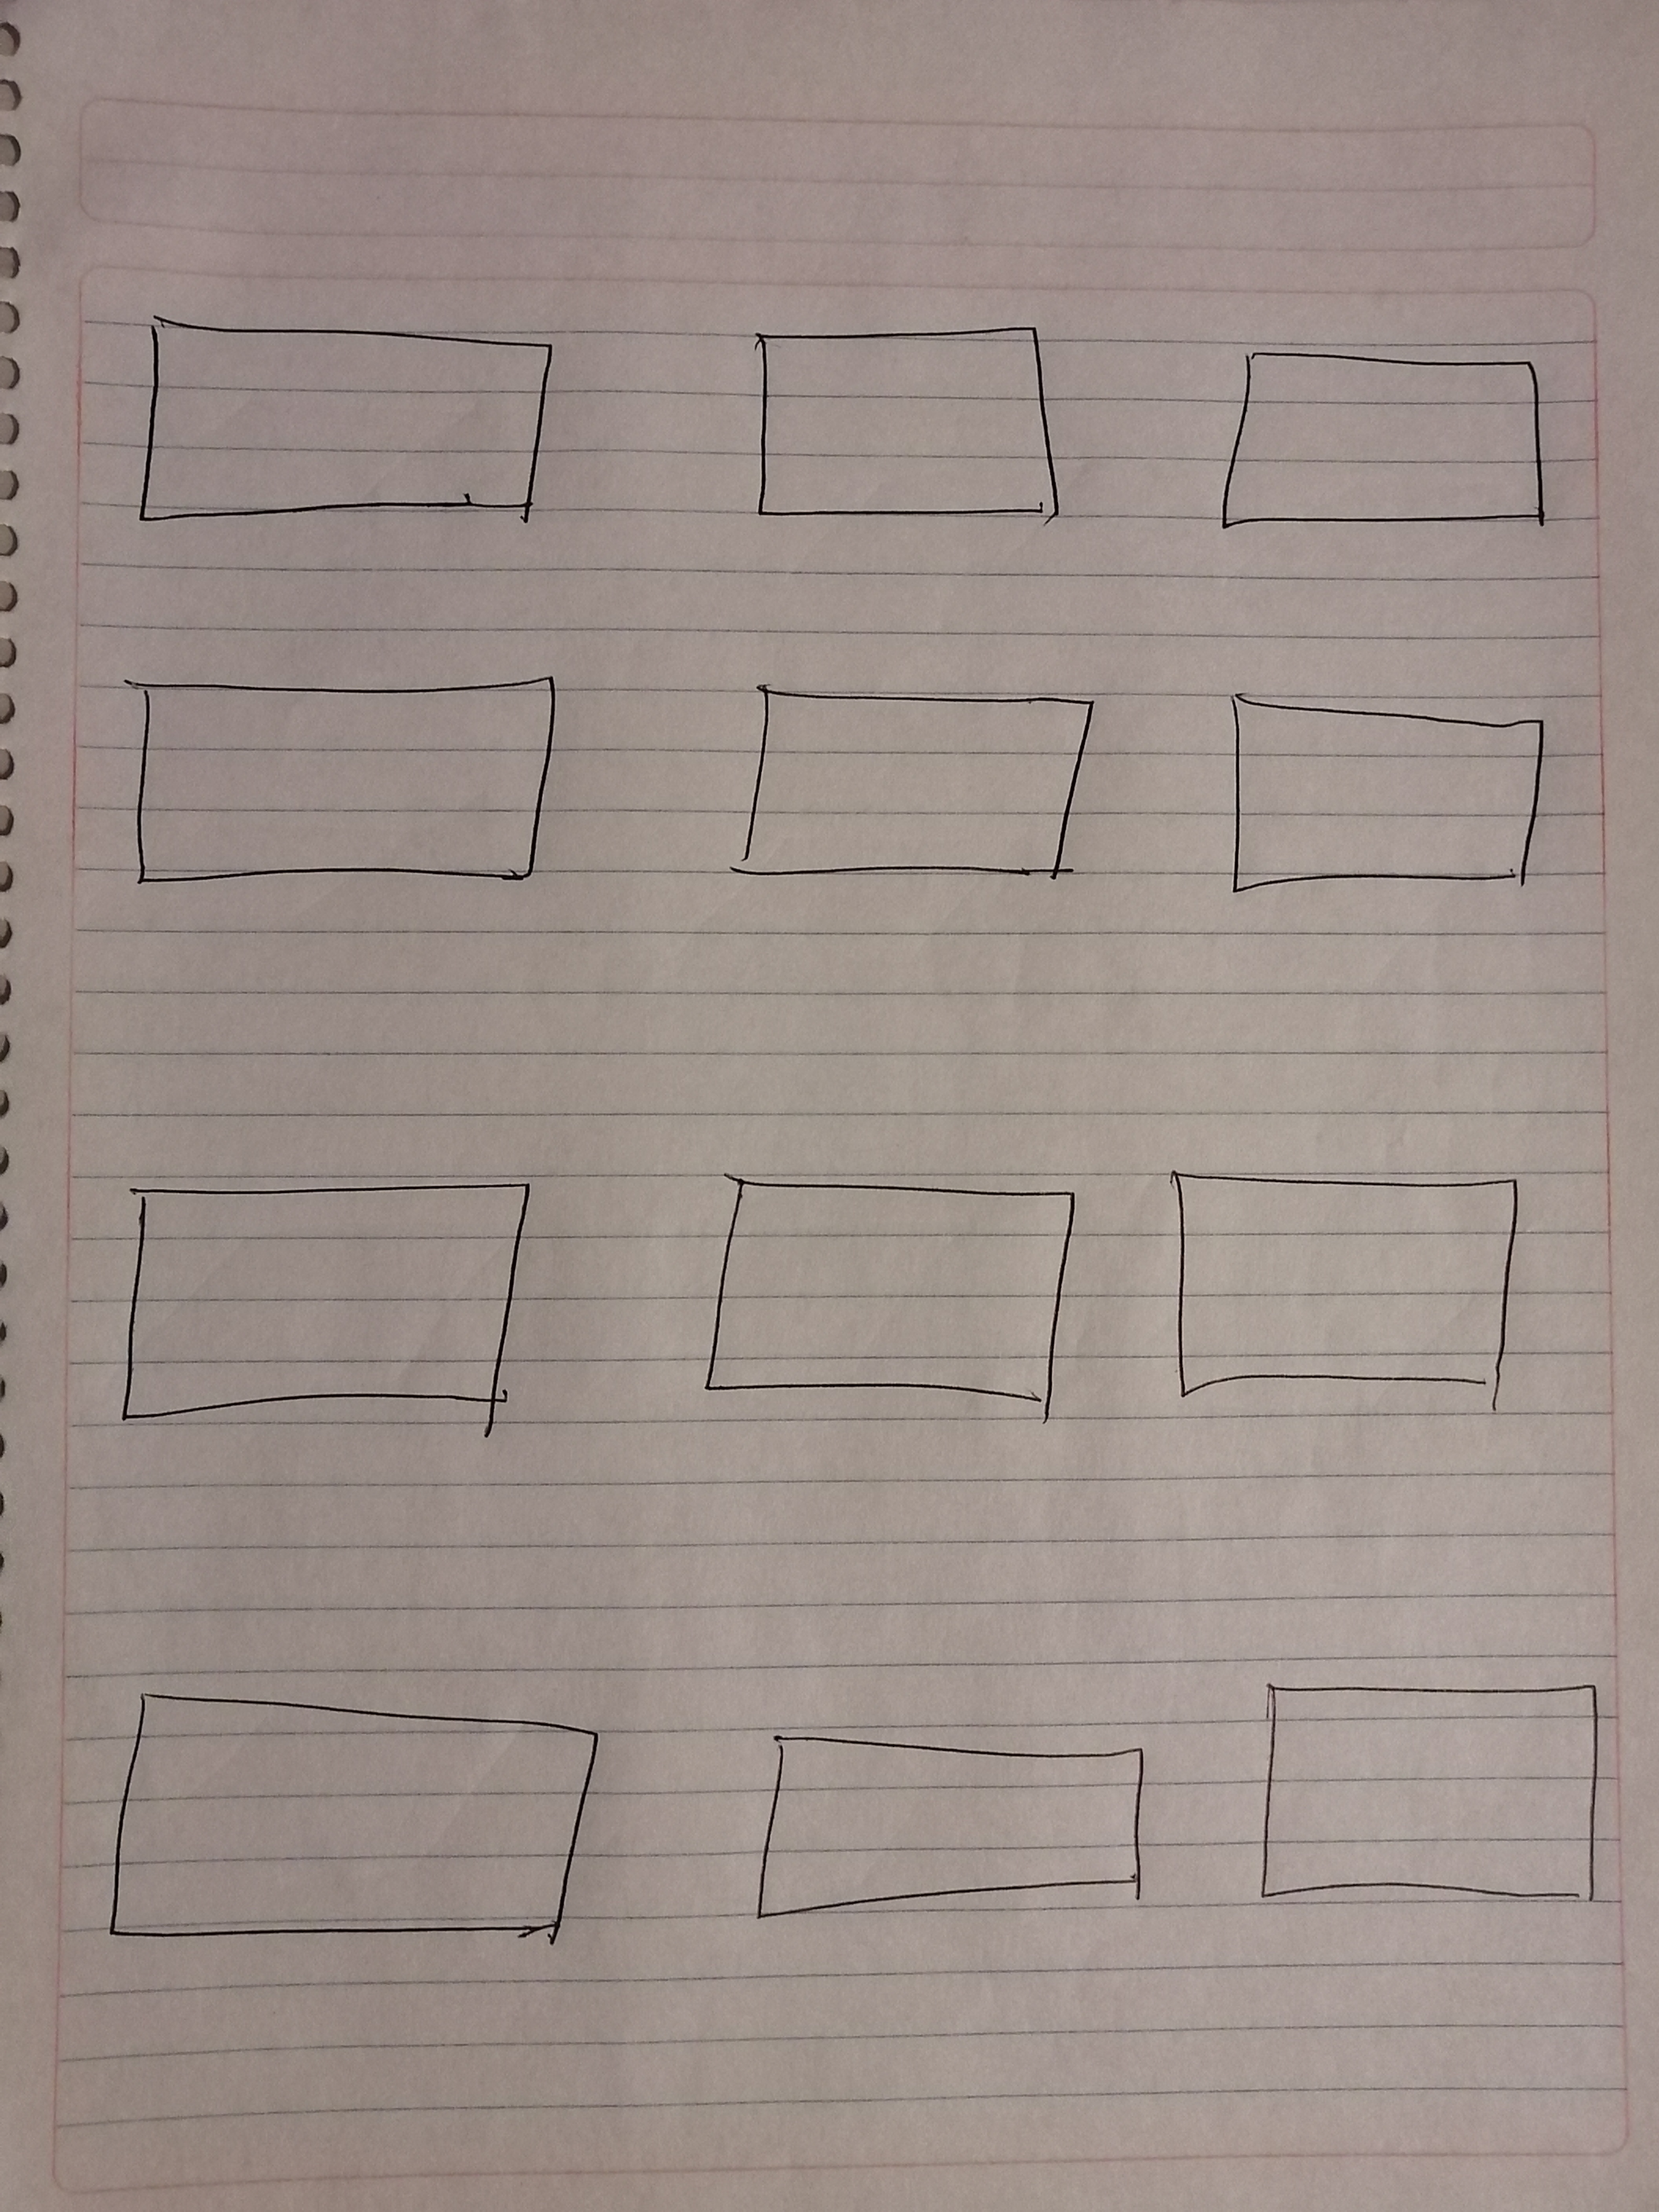process: (96, 1651, 645, 1984), (96, 1160, 566, 1470), (685, 1137, 1103, 1470), (103, 650, 599, 916), (720, 1688, 1185, 1966), (695, 650, 1114, 953), (1138, 1134, 1549, 1435), (1234, 1648, 1631, 1956), (110, 300, 579, 549), (1206, 660, 1574, 942), (1206, 314, 1584, 585), (723, 303, 1110, 566)
